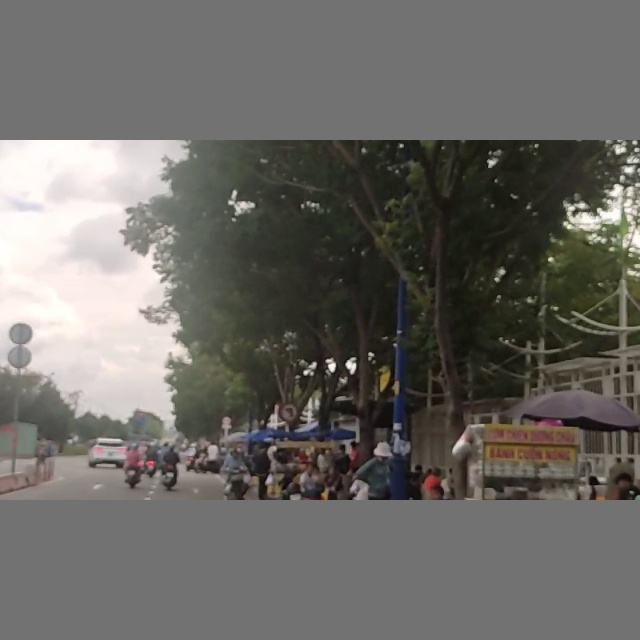P.123a: (279, 403, 296, 421)
